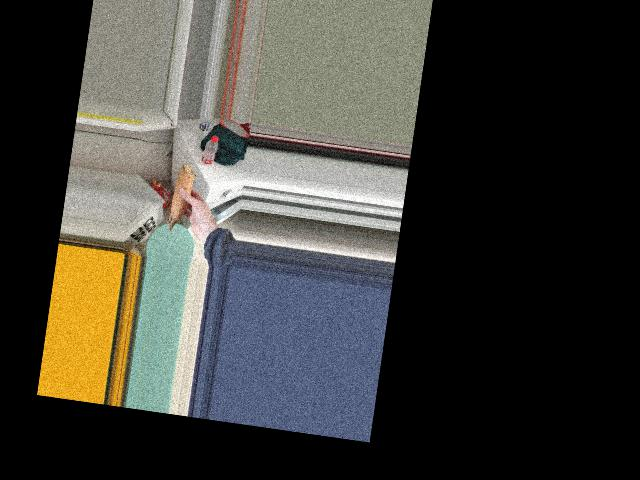sweet_potato: (168, 167, 194, 232)
